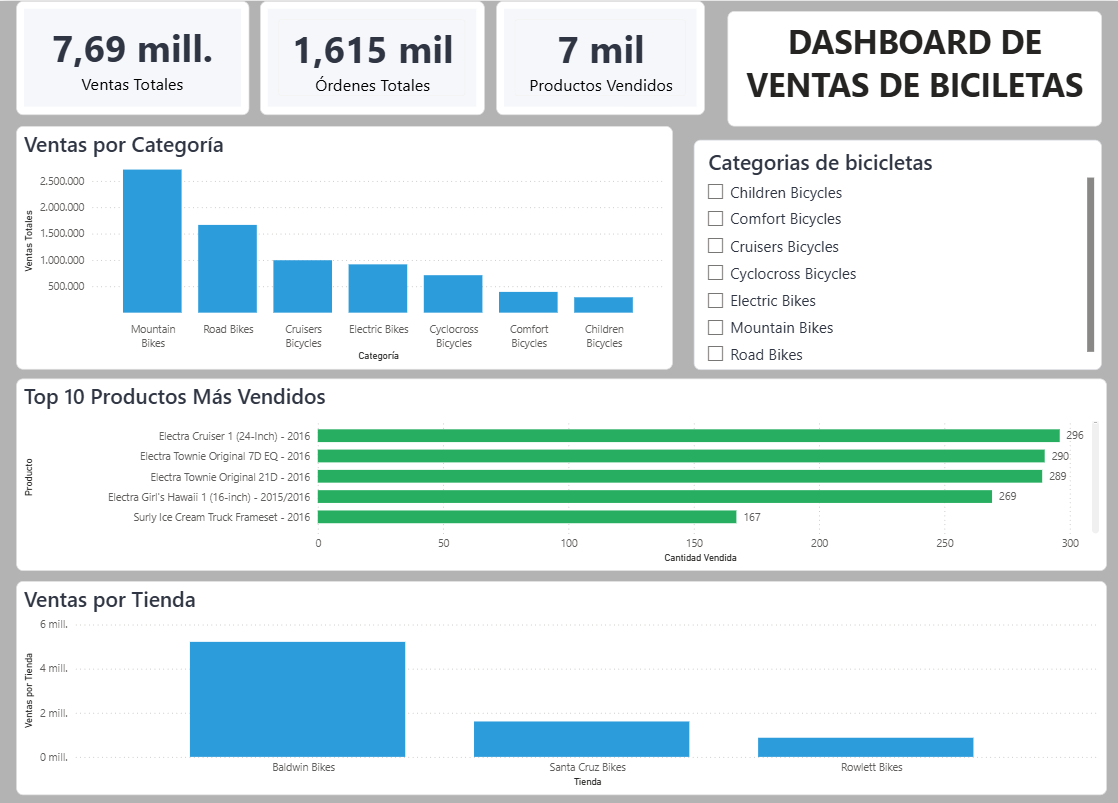

The page's visual inventory and layout, read from the dashboard file:
{"tool":"powerbi","page":{"name":"DBS","canvas":[1280,920],"ordinal":0},"visuals":[{"type":"cardVisual","fields":{"Data":["Sum(sales_data_powerbi.total_price)"]},"box":[18.3,0,266.7,130],"z":0},{"type":"cardVisual","fields":{"Data":["Count(sales_data_powerbi.order_id)"]},"box":[296.7,0,256.7,130],"z":1000},{"type":"cardVisual","fields":{"Data":["Sum(sales_data_powerbi.quantity)"]},"box":[566.7,0,238.3,130],"z":2000},{"type":"columnChart","title":"Ventas por Categoría","fields":{"Category":["sales_data_powerbi.category_name"],"Y":["Sum(sales_data_powerbi.total_price)"]},"box":[18.3,143.3,750,278.3],"z":3000},{"type":"barChart","title":"Top 10 Productos Más Vendidos","fields":{"Category":["sales_data_powerbi.product_name"],"Y":["Sum(sales_data_powerbi.quantity)"]},"box":[18.3,431.7,1246.7,220],"z":4000},{"type":"slicer","fields":{"Values":["sales_data_powerbi.category_name"]},"box":[793.3,158.3,466.7,263.3],"z":5000},{"type":"columnChart","title":"Ventas por Tienda","fields":{"Category":["sales_data_powerbi.store_name"],"Y":["Sum(sales_data_powerbi.total_price)"]},"box":[18.3,663.3,1246.7,245],"z":6000},{"type":"textbox","box":[831.7,11.7,428.3,131.7],"z":6001}]}

Visuals, with their boxes in screenshot pixels (x1, y1, x2, y2), scaled from the page's 1280x920 canvas onto the 1118x803 screenshot:
cardVisual - Sum(sales_data_powerbi.total_price): 16 0 249 113
cardVisual - Count(sales_data_powerbi.order_id): 259 0 483 113
cardVisual - Sum(sales_data_powerbi.quantity): 495 0 703 113
"Ventas por Categoría" columnChart: 16 125 671 368
"Top 10 Productos Más Vendidos" barChart: 16 377 1105 569
slicer - sales_data_powerbi.category_name: 693 138 1101 368
"Ventas por Tienda" columnChart: 16 579 1105 793
textbox: 726 10 1101 125
